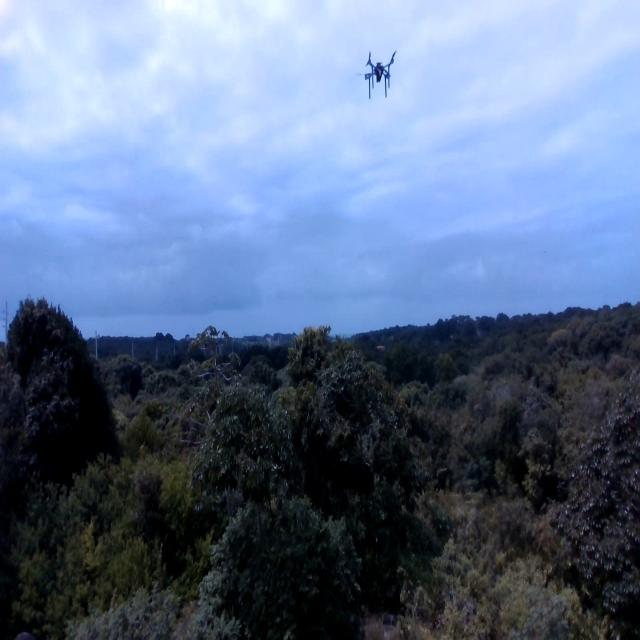-uav-: (352, 37, 410, 114)
